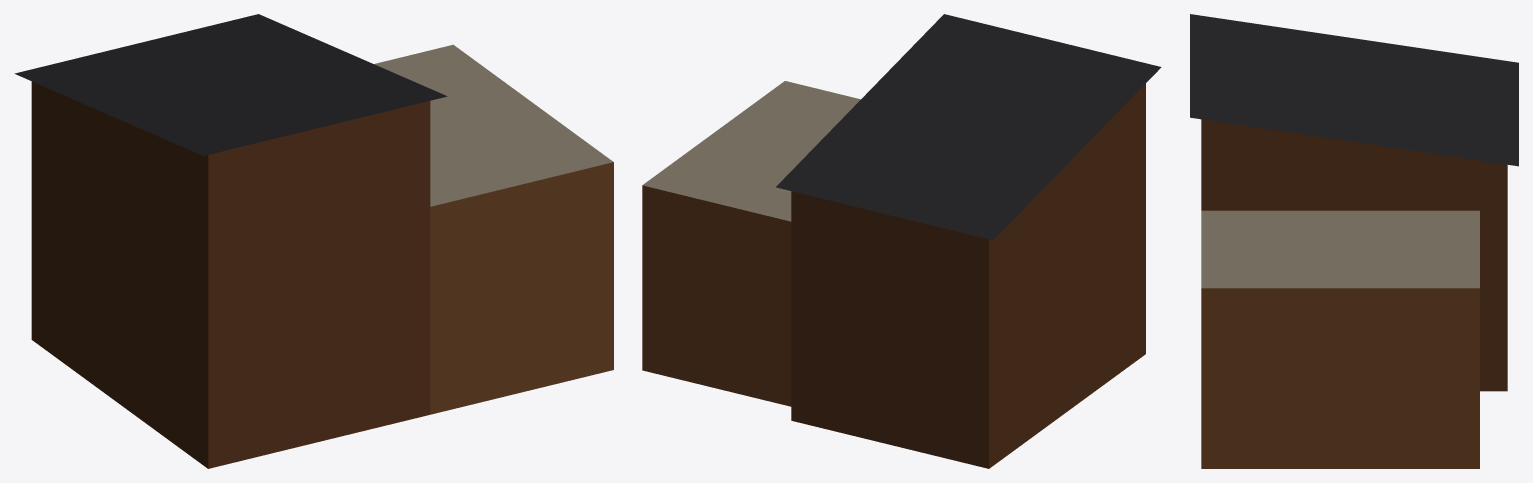
The model's file is rw-split-modern.towns-v1.lod2.glb.
The picture shows the model from 3 angles, left to right: view 1: azimuth 30°, elevation 25°; view 2: azimuth 150°, elevation 25°; view 3: azimuth 270°, elevation 25°; orthographic projection. The views are drawn at different scales.
Visible parts, largest first — view 1: rw-split-modern; view 2: rw-split-modern; view 3: rw-split-modern.
Boxes of the visible parts, x1,y1,x2,y2 form: rw-split-modern: (14,14,613,468); rw-split-modern: (642,14,1161,468); rw-split-modern: (1190,14,1518,468).
Bounding box in the file's own units: 15 × 11.02 × 11.8.
